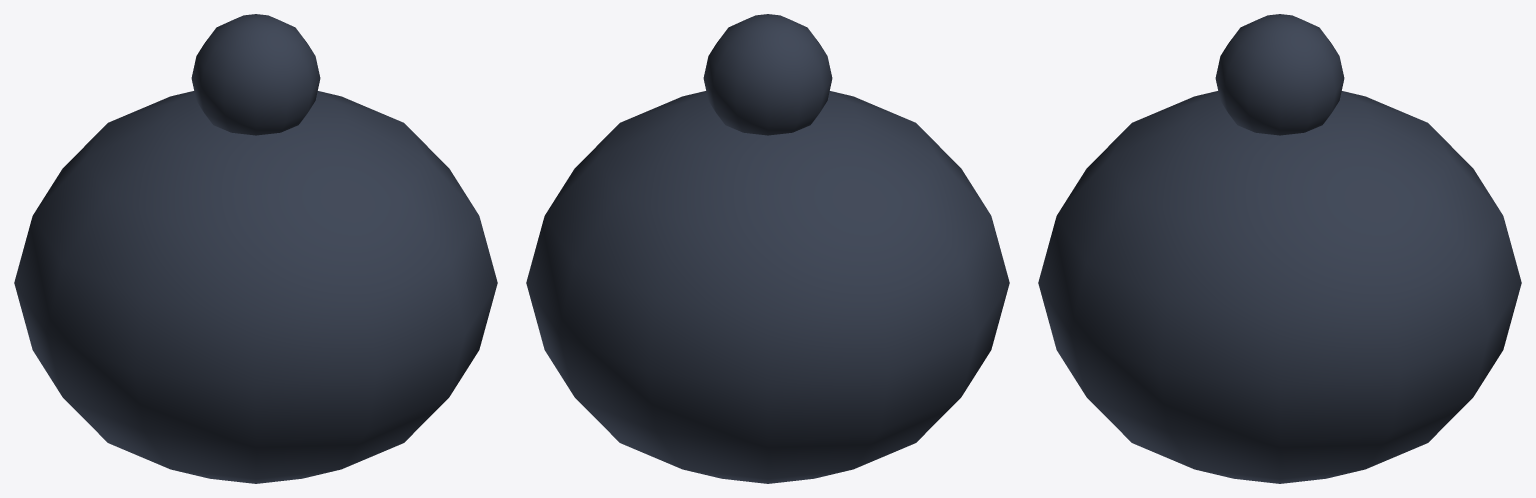
The model's file is bag.glb.
3 renders of one model, left to right at view 1: azimuth 30°, elevation 25°; view 2: azimuth 150°, elevation 25°; view 3: azimuth 270°, elevation 25°, orthographic.
Visible parts, largest first — view 1: bag, bag_knot; view 2: bag, bag_knot; view 3: bag, bag_knot.
Boxes of the visible parts, box(x1,y1,x2,y2) form: bag: box(14, 91, 497, 483); bag_knot: box(191, 14, 320, 135); bag: box(526, 91, 1009, 483); bag_knot: box(703, 14, 832, 135); bag: box(1038, 91, 1521, 483); bag_knot: box(1215, 14, 1344, 135).
Bounding box in the file's own units: 0.6 × 0.6 × 0.6.
